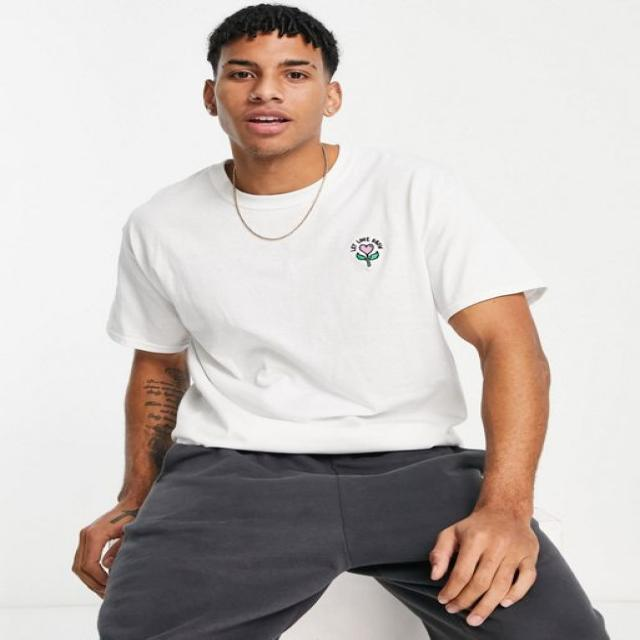tshirt: (104, 143, 545, 455)
